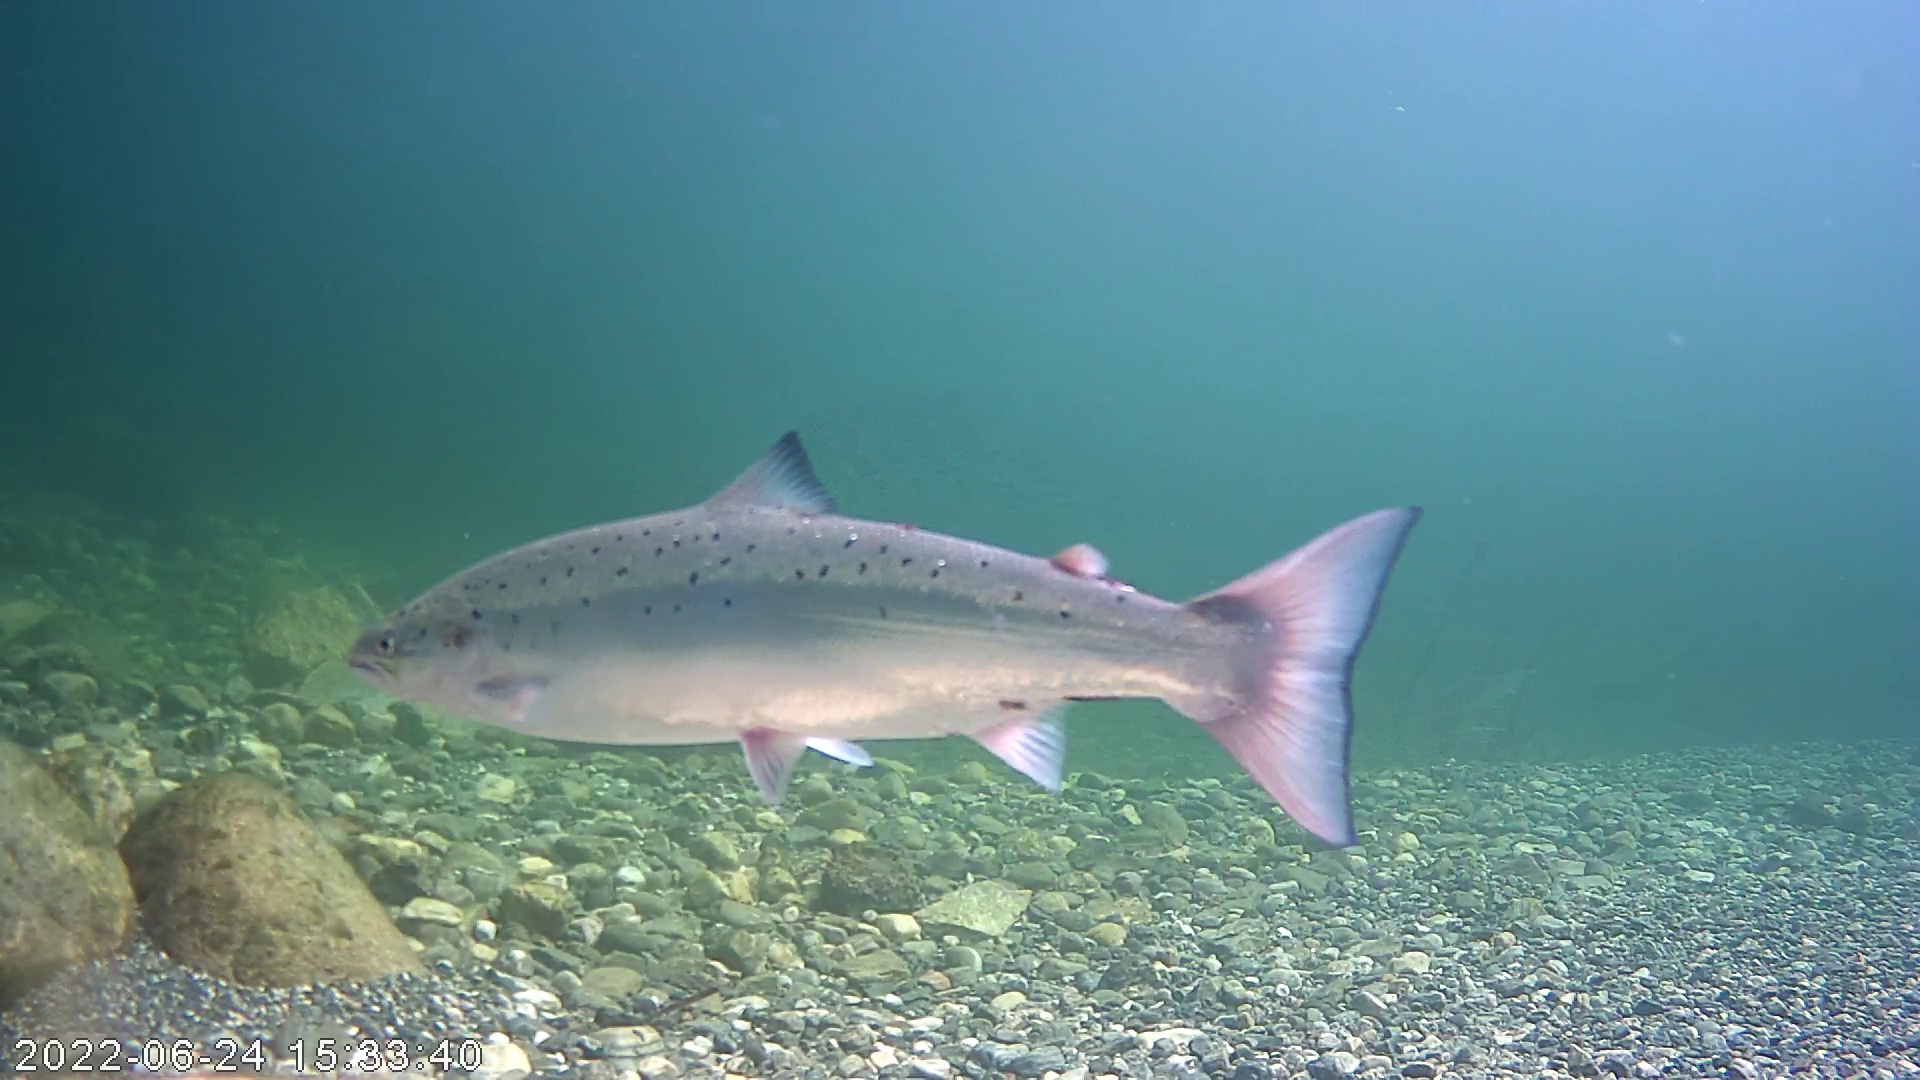salmon: (343, 429, 1425, 851)
